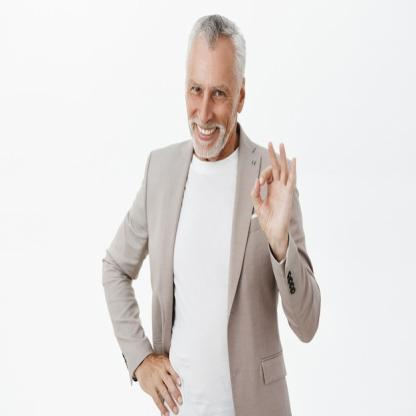ok: (249, 138, 300, 250)
